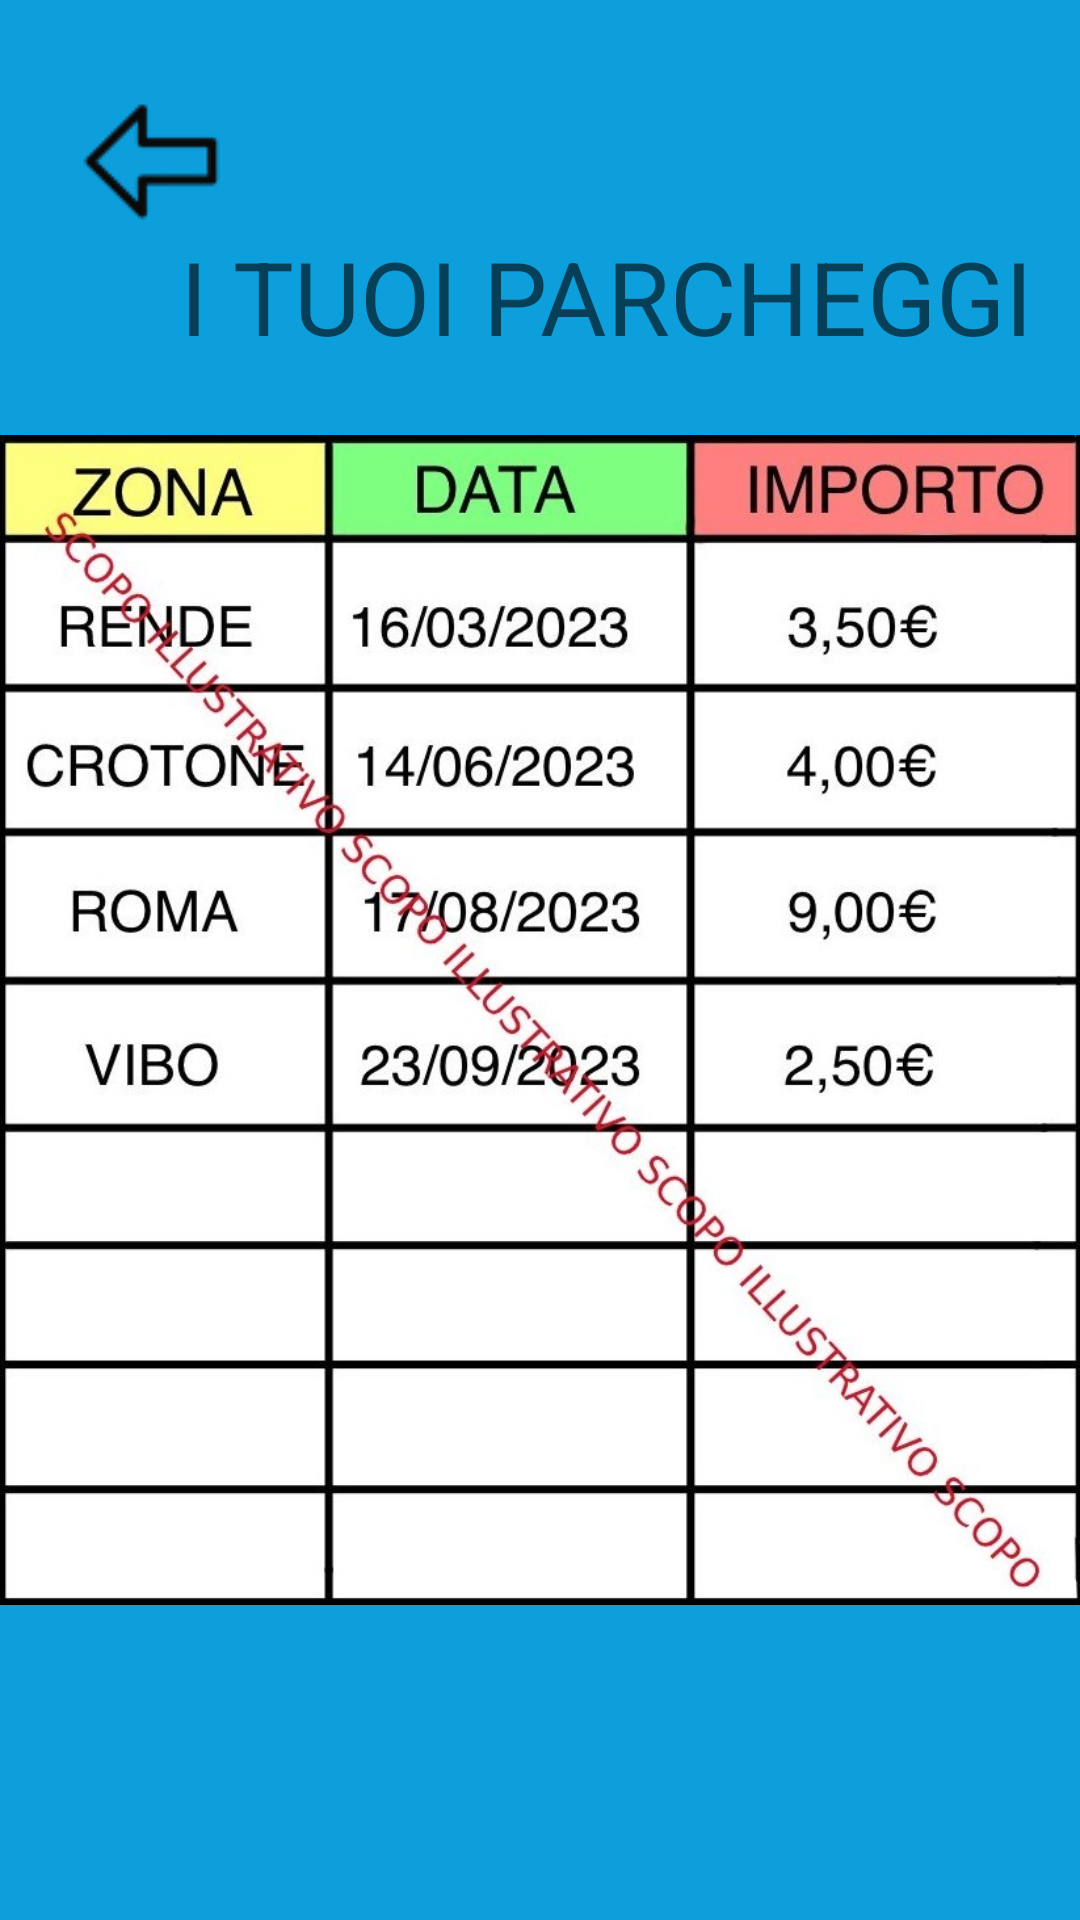

Where to tap for icons on this 1080 x 1920 app screen, as [x,y]:
freccia: [151,162]
